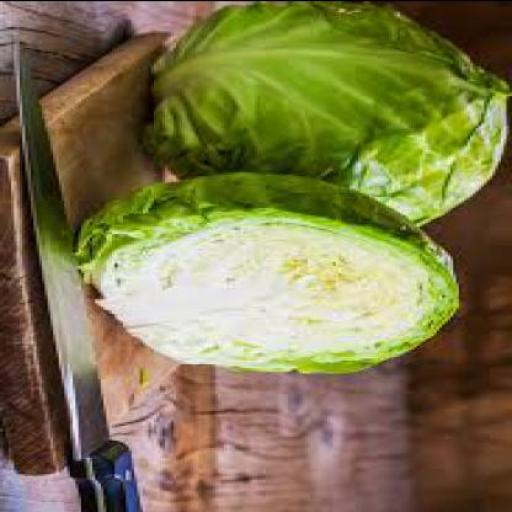biodegradable: (143, 2, 511, 226), (76, 175, 464, 374)
metal: (14, 39, 112, 462)
